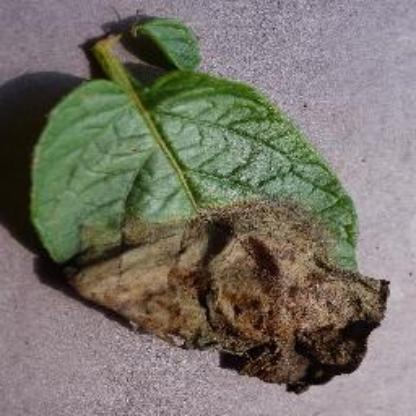Late-Blight: (29, 6, 401, 396)
